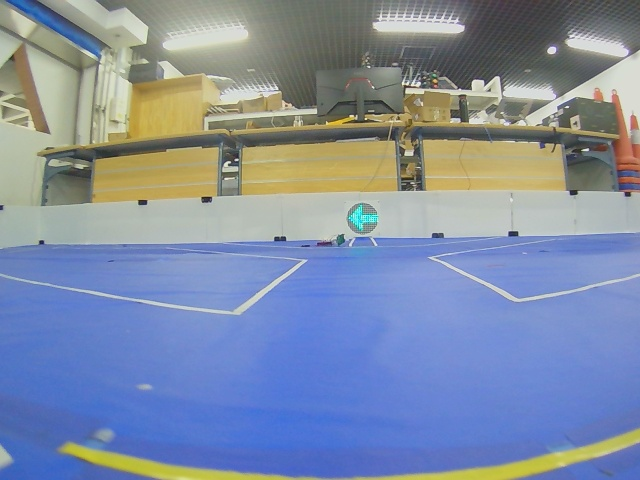left_green: (347, 202, 378, 234)
